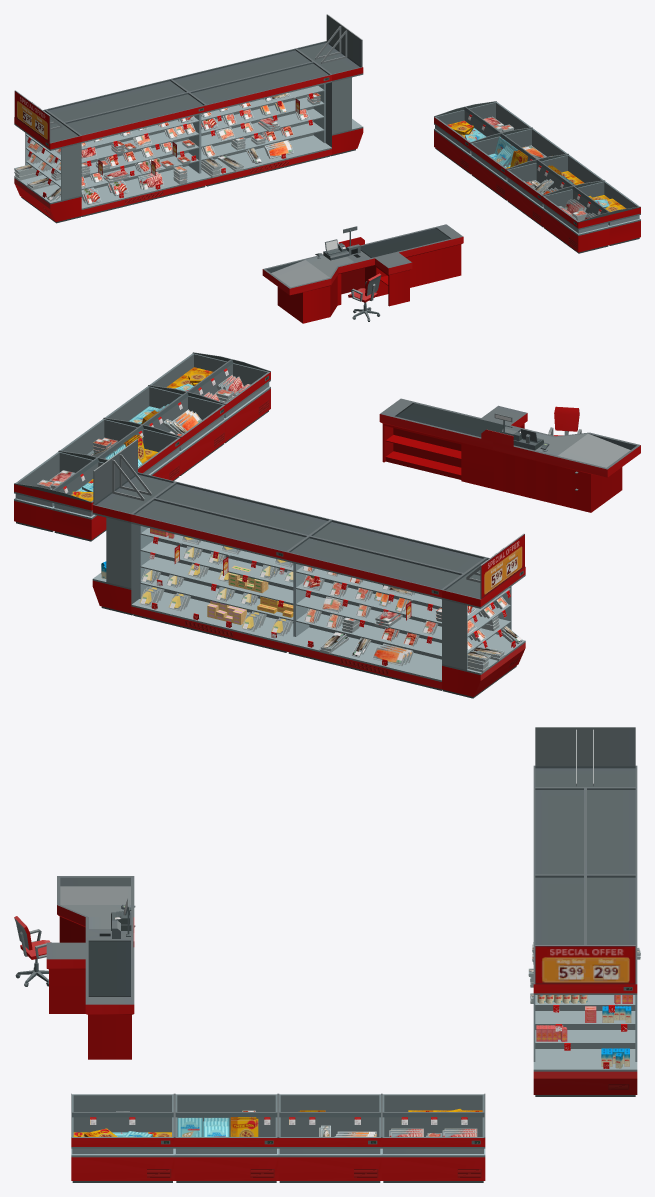
Rendered from Super_market1.fbx.
The picture shows the model from 3 angles, top to bottom: view 1: azimuth 30°, elevation 25°; view 2: azimuth 150°, elevation 25°; view 3: azimuth 270°, elevation 25°; orthographic projection. The views are drawn at different scales.
Visible parts, largest first — view 1: Super_market1; view 2: Super_market1; view 3: Super_market1.
Part boxes in pixels (x1=…): Super_market1: x1=14, y1=14, x2=640, y2=323; Super_market1: x1=14, y1=352, x2=640, y2=698; Super_market1: x1=14, y1=727, x2=640, y2=1182.
Size of the model in its own units: 14.64 by 3.54 by 12.86.
